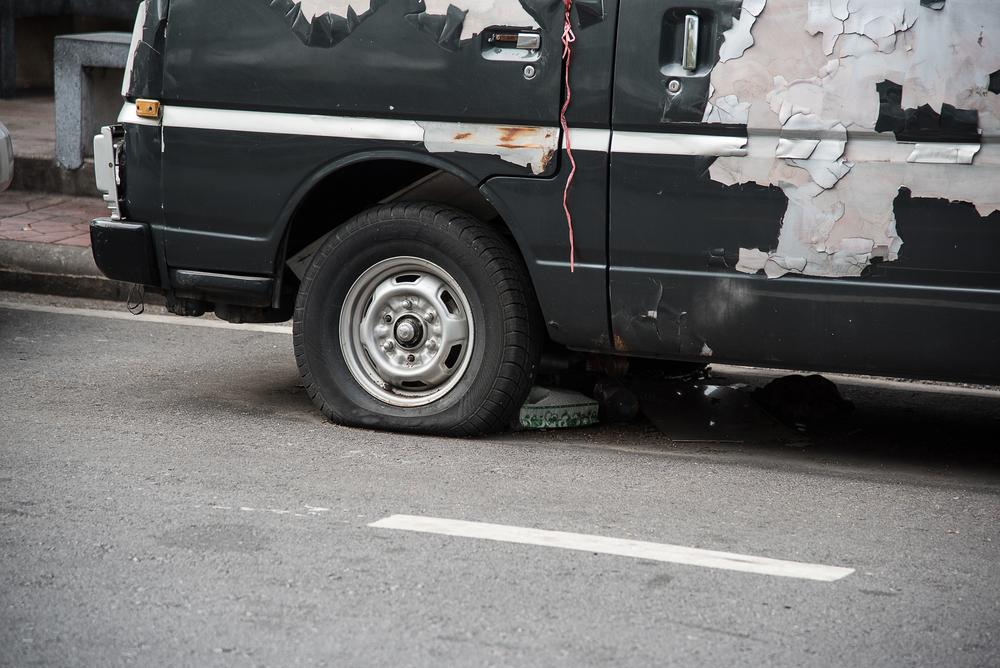tire flat: (293, 203, 542, 438)
